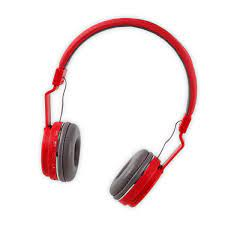headphone: (40, 14, 198, 210)
